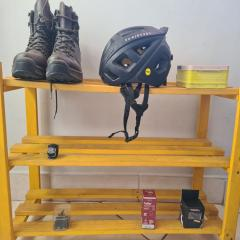bota1: (11, 0, 83, 84)
capacete: (98, 23, 172, 87)
cx-bike: (180, 188, 205, 229)
cx-ferro: (142, 188, 156, 230)
cx-magali: (176, 63, 230, 89)
cx-xuxa: (53, 203, 71, 231)
luz: (46, 144, 60, 161)
